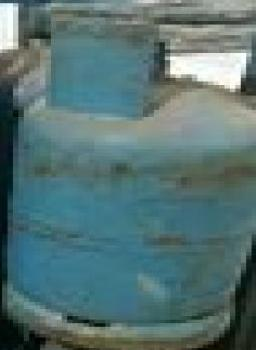cylinder: (1, 1, 256, 350)
